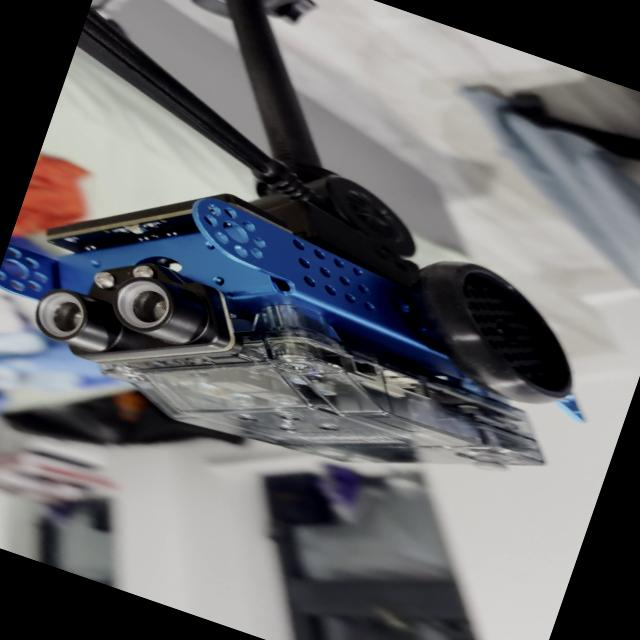mbot-detection: (0, 110, 639, 551)
